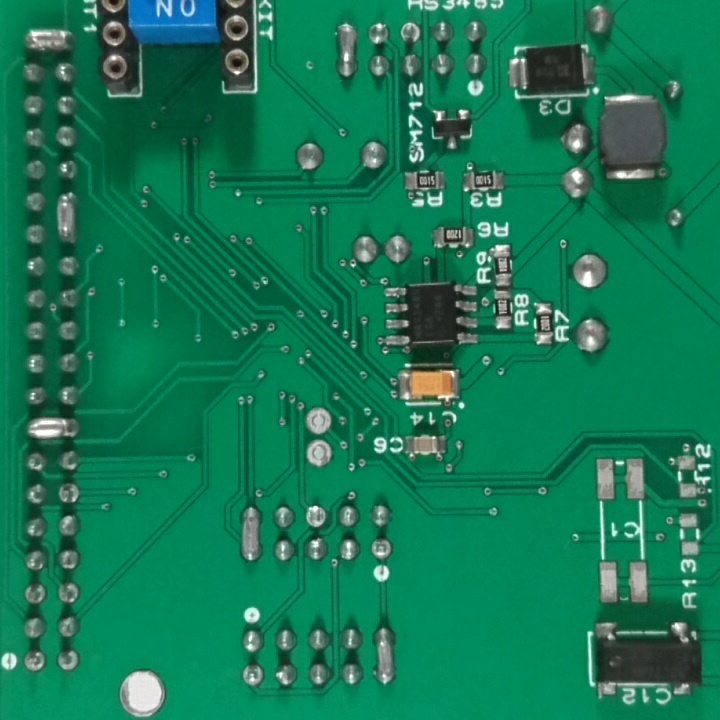F: (303, 439, 336, 470), (302, 405, 333, 438), (367, 534, 396, 563), (22, 580, 50, 609), (238, 663, 266, 689), (56, 481, 81, 509), (398, 20, 424, 46), (22, 649, 47, 676), (303, 503, 327, 531)
P: (370, 621, 399, 689), (237, 502, 264, 571), (52, 189, 82, 250), (22, 27, 79, 56), (334, 20, 359, 85), (22, 416, 81, 440)
